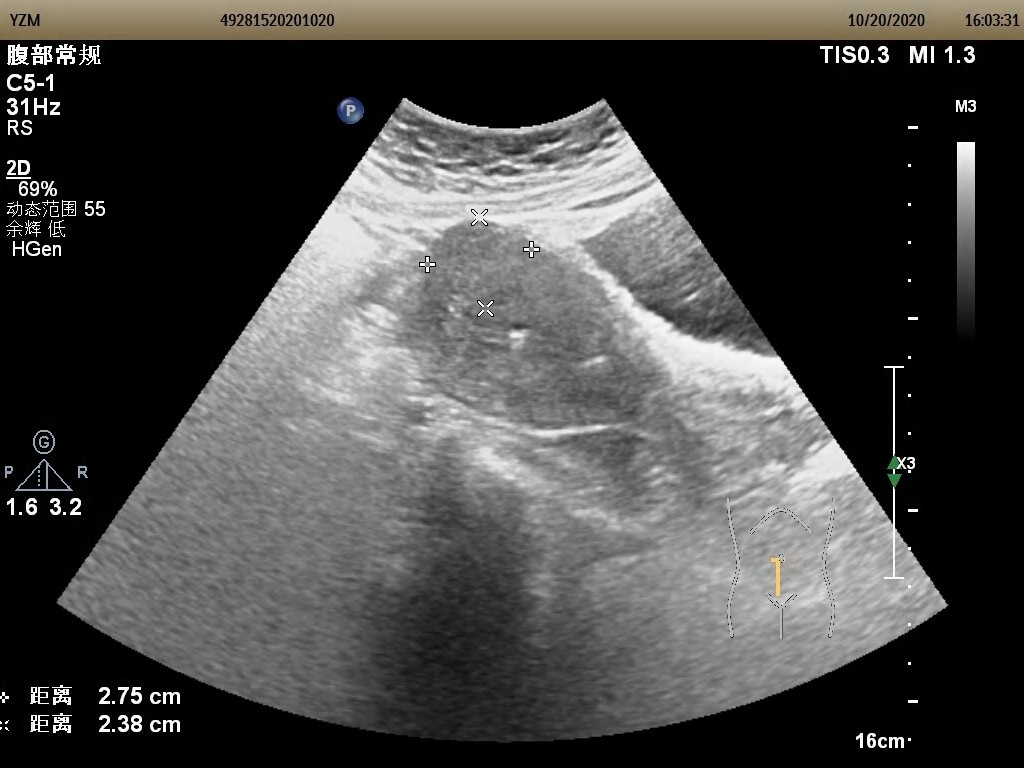肌瘤: (437, 226, 526, 309)
